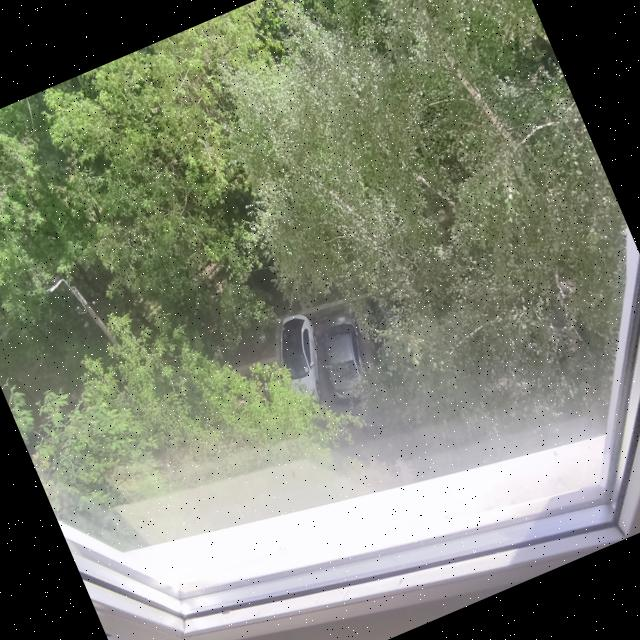car: (323, 310, 370, 404), (276, 313, 324, 405)
